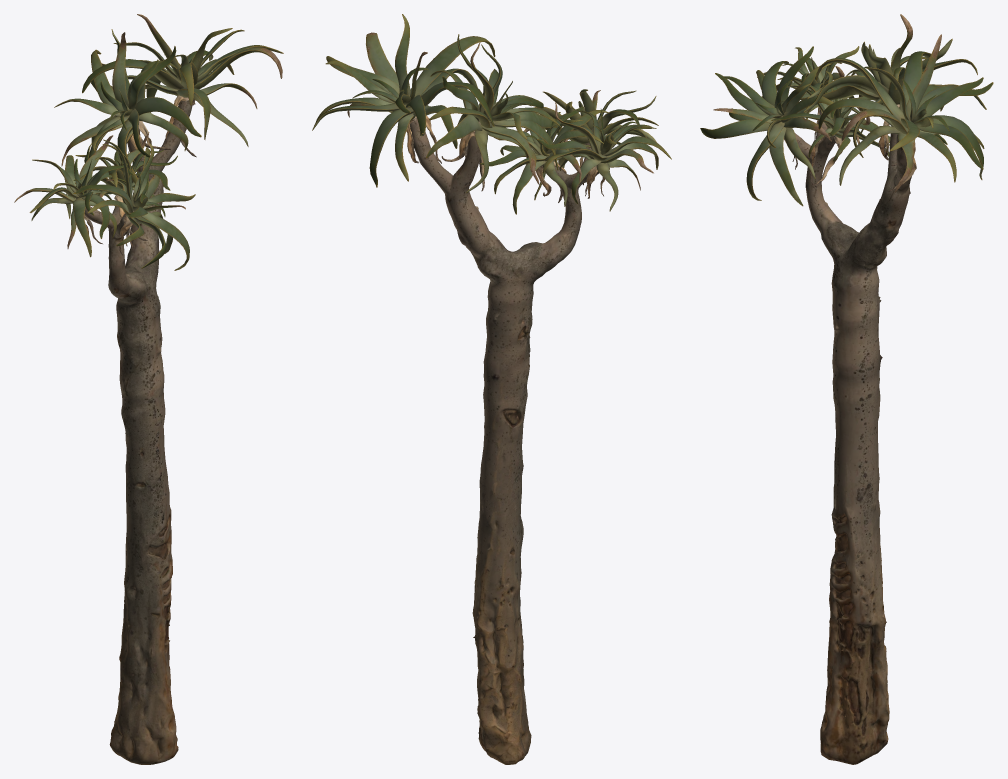
Rendered from quiver_tree_01.glb.
3 renders of one model, left to right at view 1: azimuth 30°, elevation 25°; view 2: azimuth 150°, elevation 25°; view 3: azimuth 270°, elevation 25°, orthographic. The views are drawn at different scales.
Parts seen in each view (by area): view 1: quiver_tree_01; view 2: quiver_tree_01; view 3: quiver_tree_01.
Boxes of the visible parts, x1=… form: quiver_tree_01: x1=14, y1=14, x2=283, y2=764; quiver_tree_01: x1=312, y1=14, x2=671, y2=764; quiver_tree_01: x1=700, y1=14, x2=993, y2=764.
Bounding box in the file's own units: 1.18 × 2.72 × 0.9684.
Materials: 2 (2 with a texture image).
